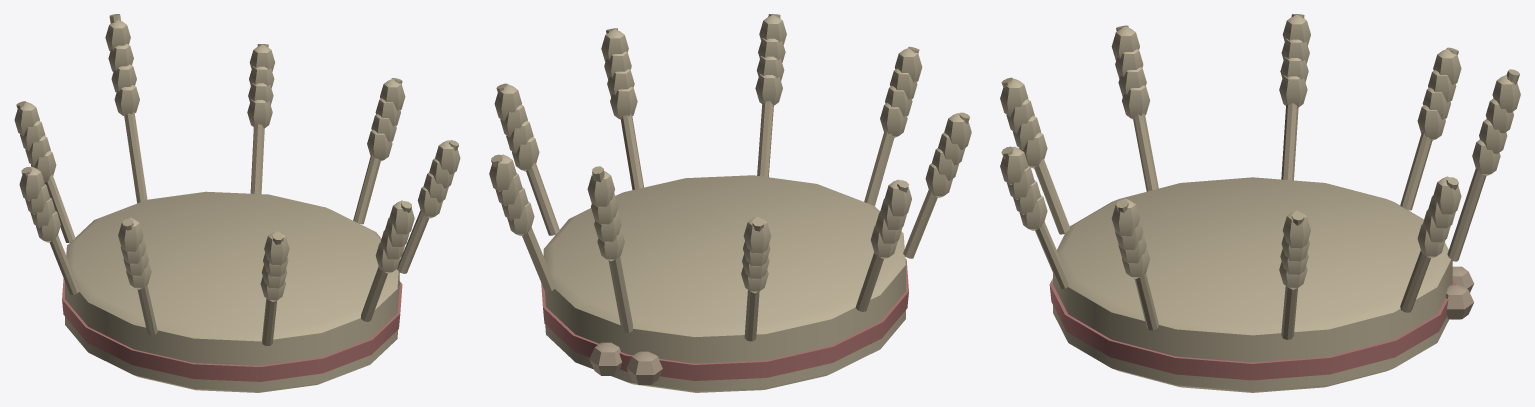
Rendered from trophy_straw_crown.gltf.
The picture shows the model from 3 angles, left to right: view 1: azimuth 30°, elevation 25°; view 2: azimuth 150°, elevation 25°; view 3: azimuth 270°, elevation 25°; orthographic projection. The views are drawn at different scales.
Visible parts, largest first — view 1: Body; view 2: Body; view 3: Body.
Boxes of the visible parts, x1,y1,x2,y2 form: Body: [14, 14, 460, 392]; Body: [489, 14, 971, 392]; Body: [1000, 14, 1520, 392].
Size of the model in its own units: 0.3089 by 0.1731 by 0.3295.
